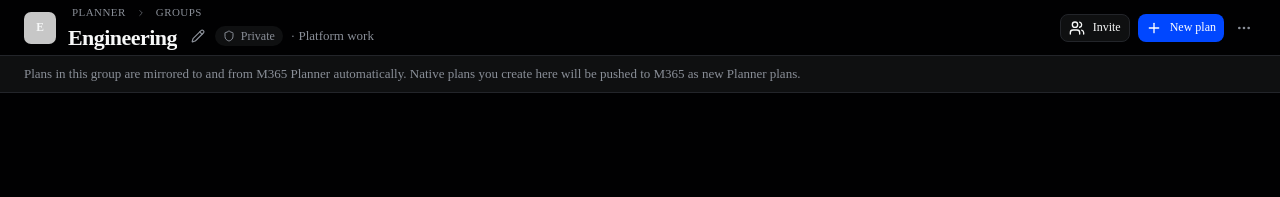
Test: GroupDetailHeader › shows "Refresh sync" menu item for m365 group
Click the button named "more" at point(1244, 28), box [1232, 16, 1256, 40]
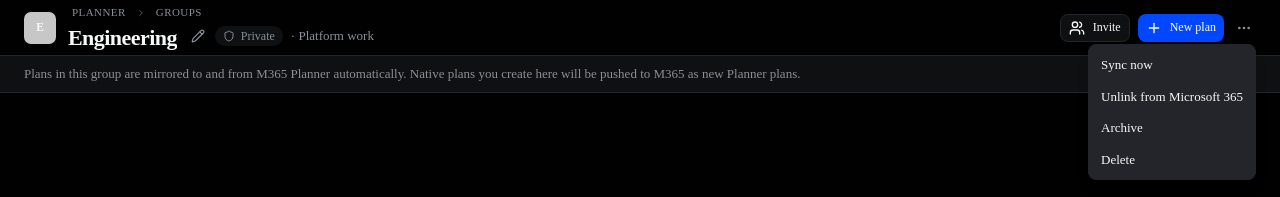
Now the menu item "Sync now" is shown, box [1101, 57, 1153, 72]
